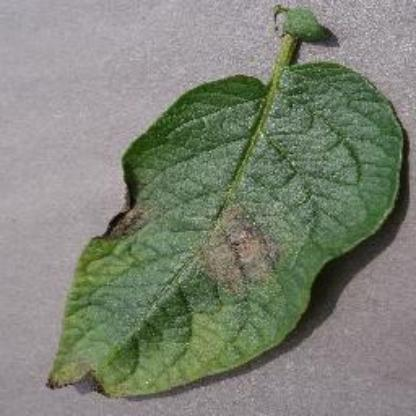Late-Blight: (38, 4, 406, 406)
